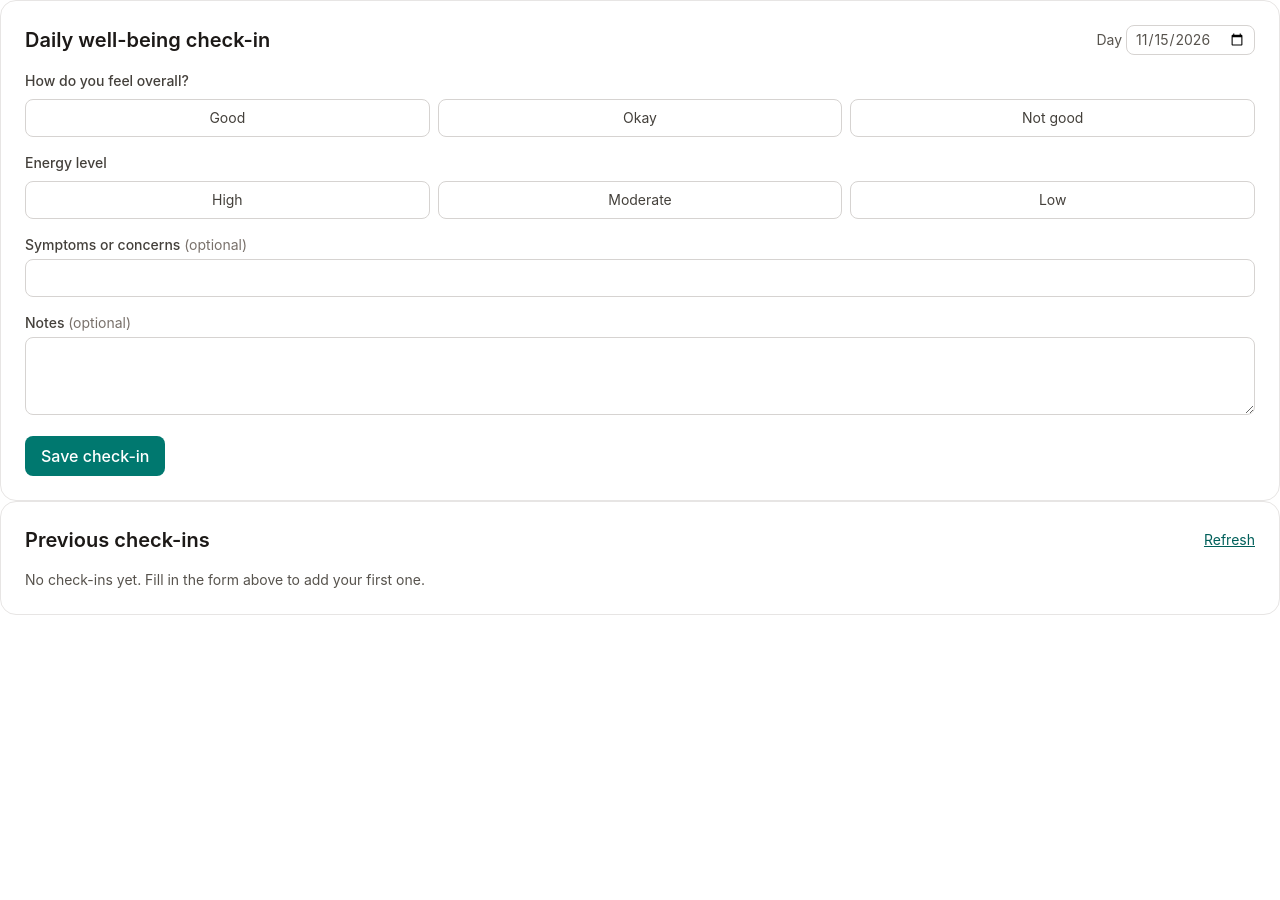
check-in form (parent) › saves a new check-in for the selected day and refreshes the history
Check: the button "Save check-in" is enabled, box 25,436 -> 165,476
Click the radio button labelled "Good".
click(227, 118)  # box 25,99 -> 430,137
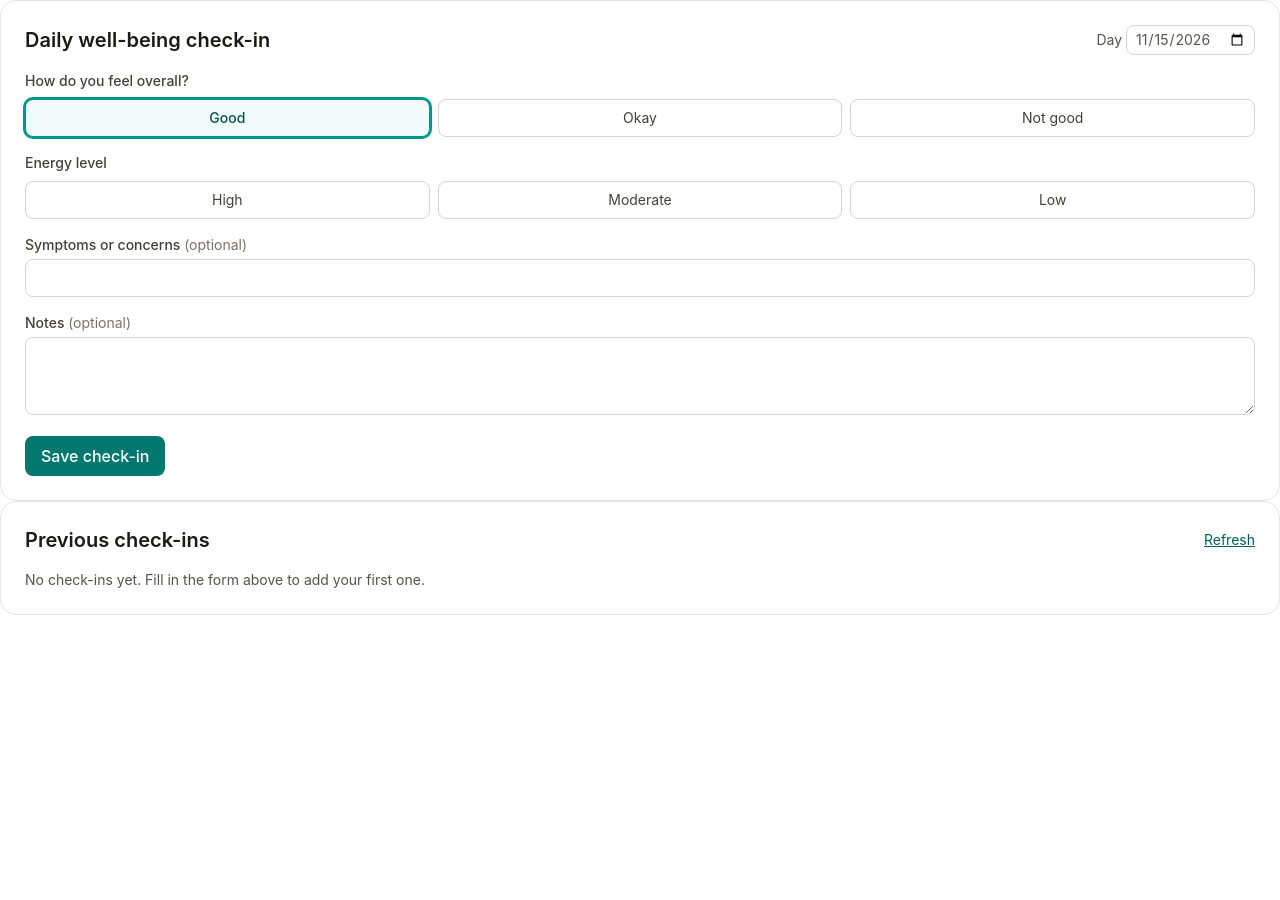
Click the radio button labelled "High".
click(227, 200)  # box 25,181 -> 430,219
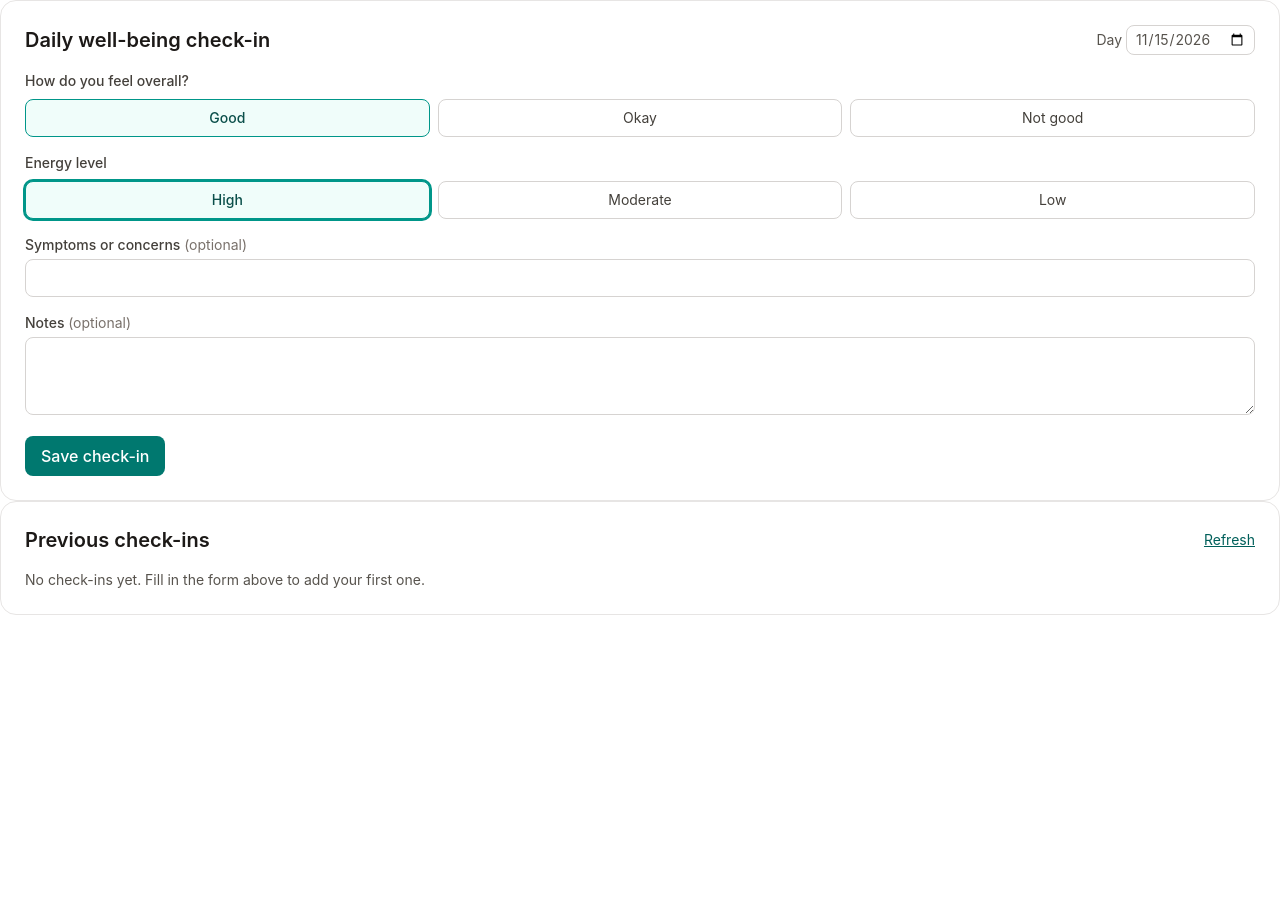
Type "  mild cough " into the field labelled "Symptoms or concerns (optional)".
click(640, 278); type("  mild cough ")  # box 25,259 -> 1255,297
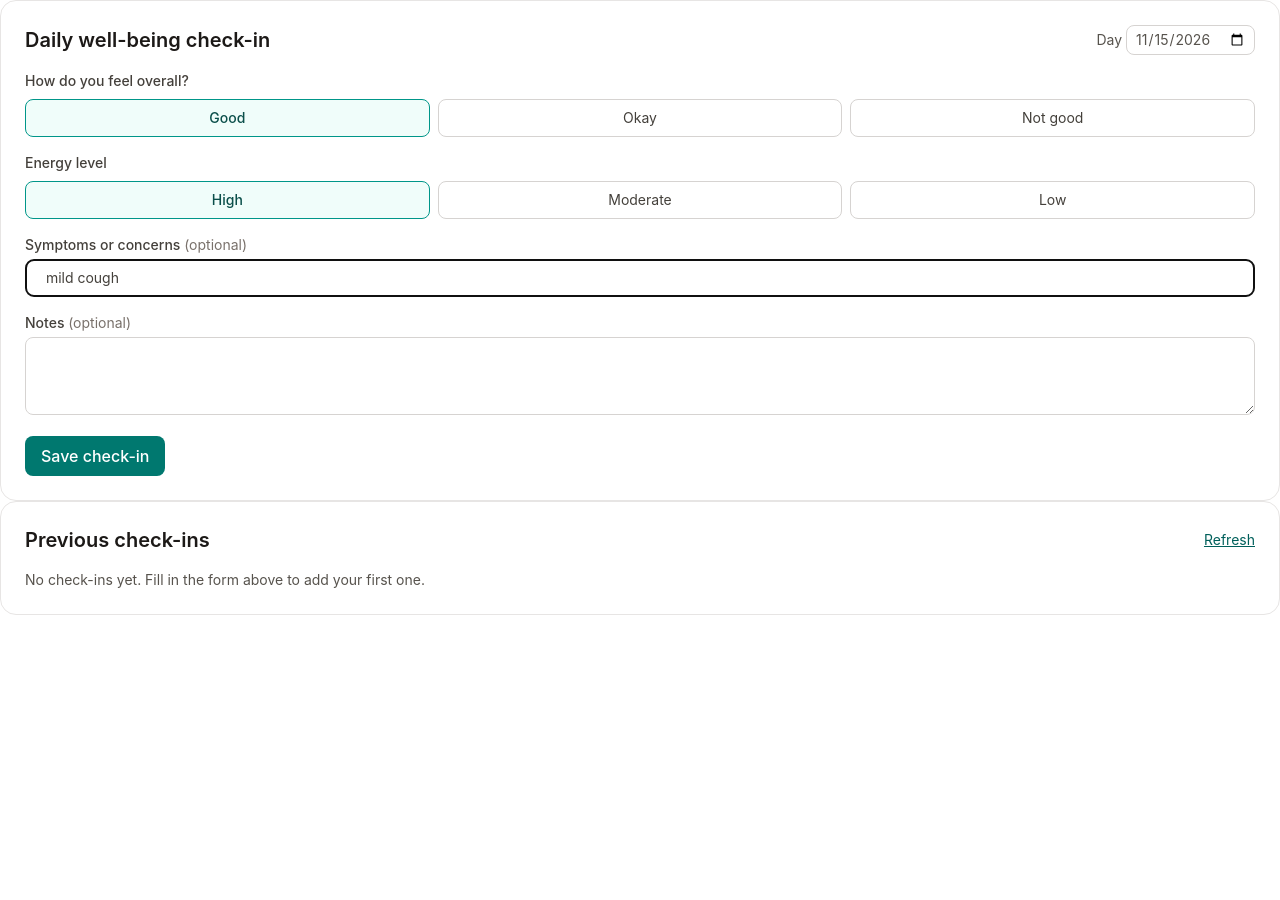
Click the button "Save check-in".
click(95, 456)  # box 25,436 -> 165,476
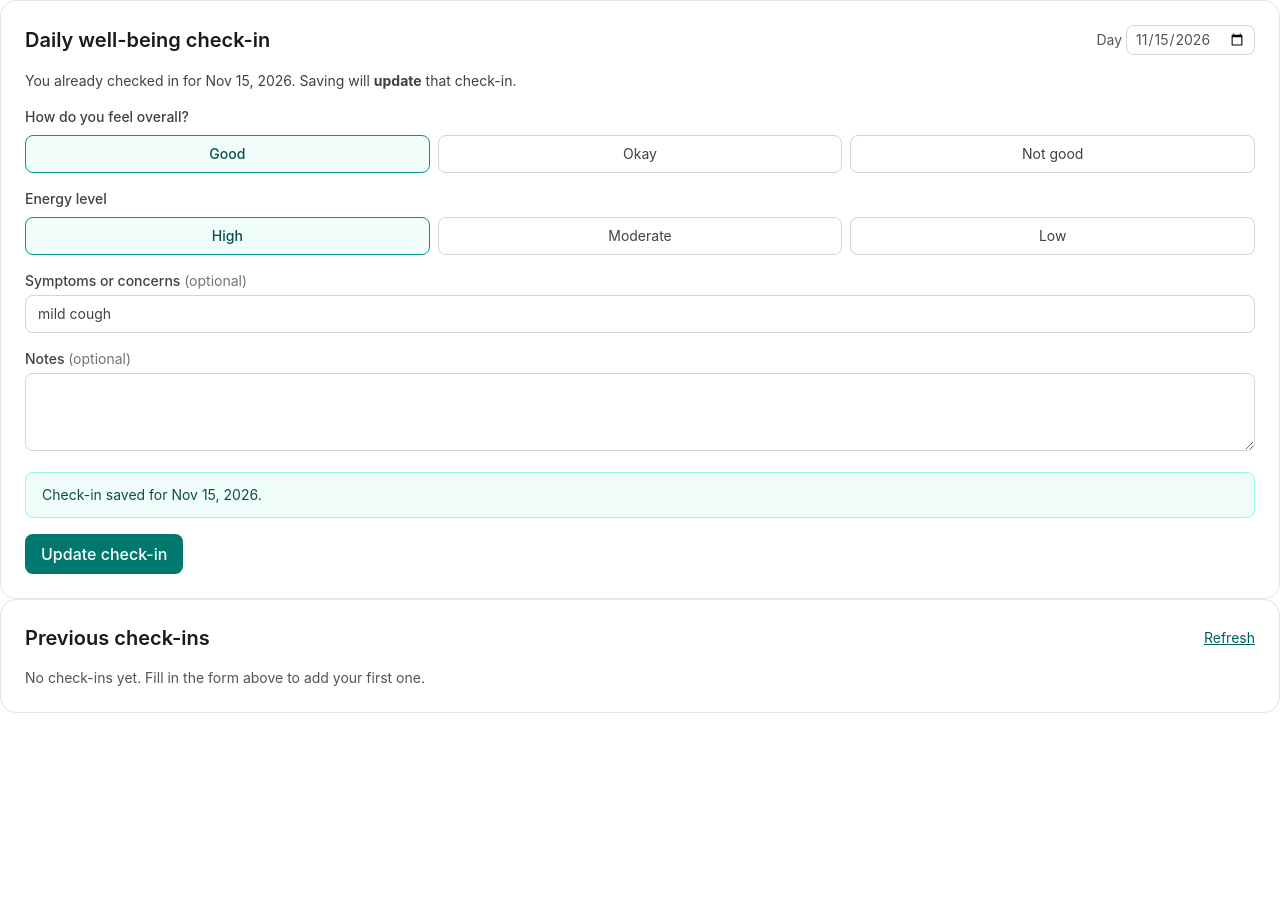
Check: the text "Check-in saved for Nov 15, 2026." is shown, box 25,472 -> 1255,518
Check: the button "Update check-in" is shown, box 25,534 -> 183,574
